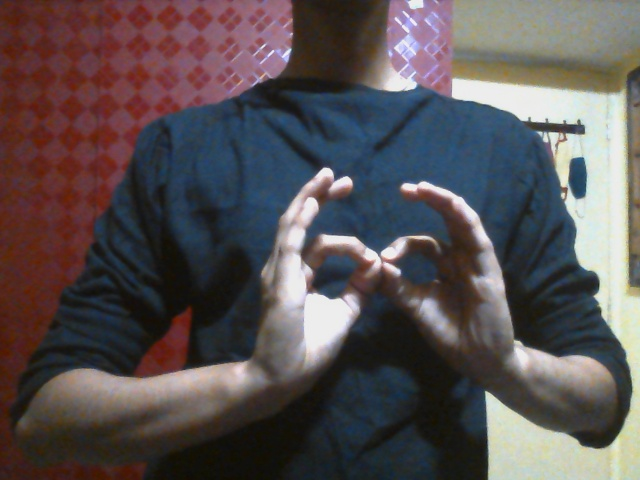B: (252, 167, 516, 398)
